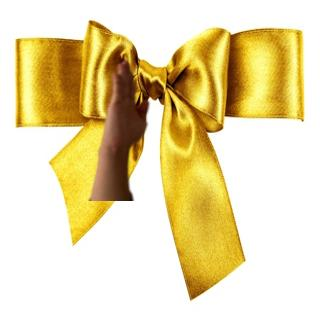RIGHT: (100, 57, 152, 155)
